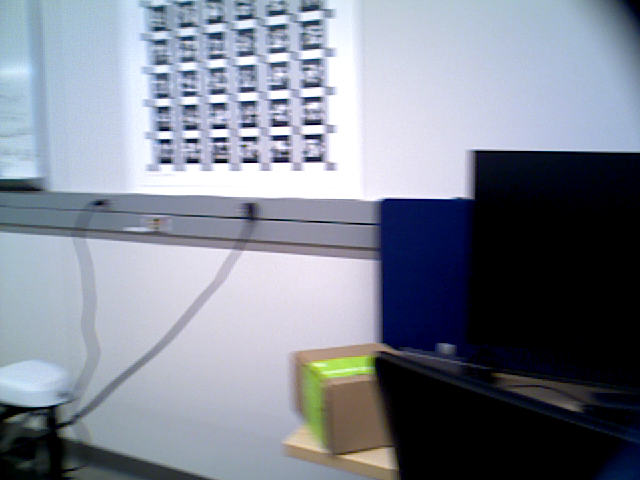painting4: (120, 1, 365, 201)
